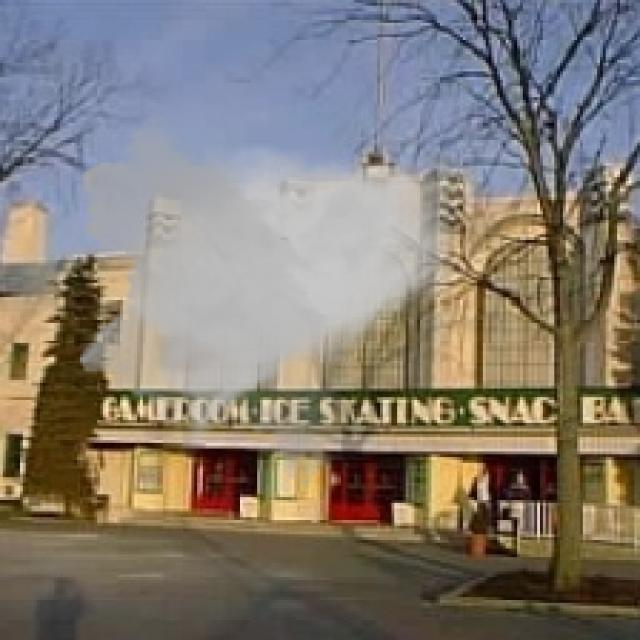Smoke: (68, 114, 474, 489)
